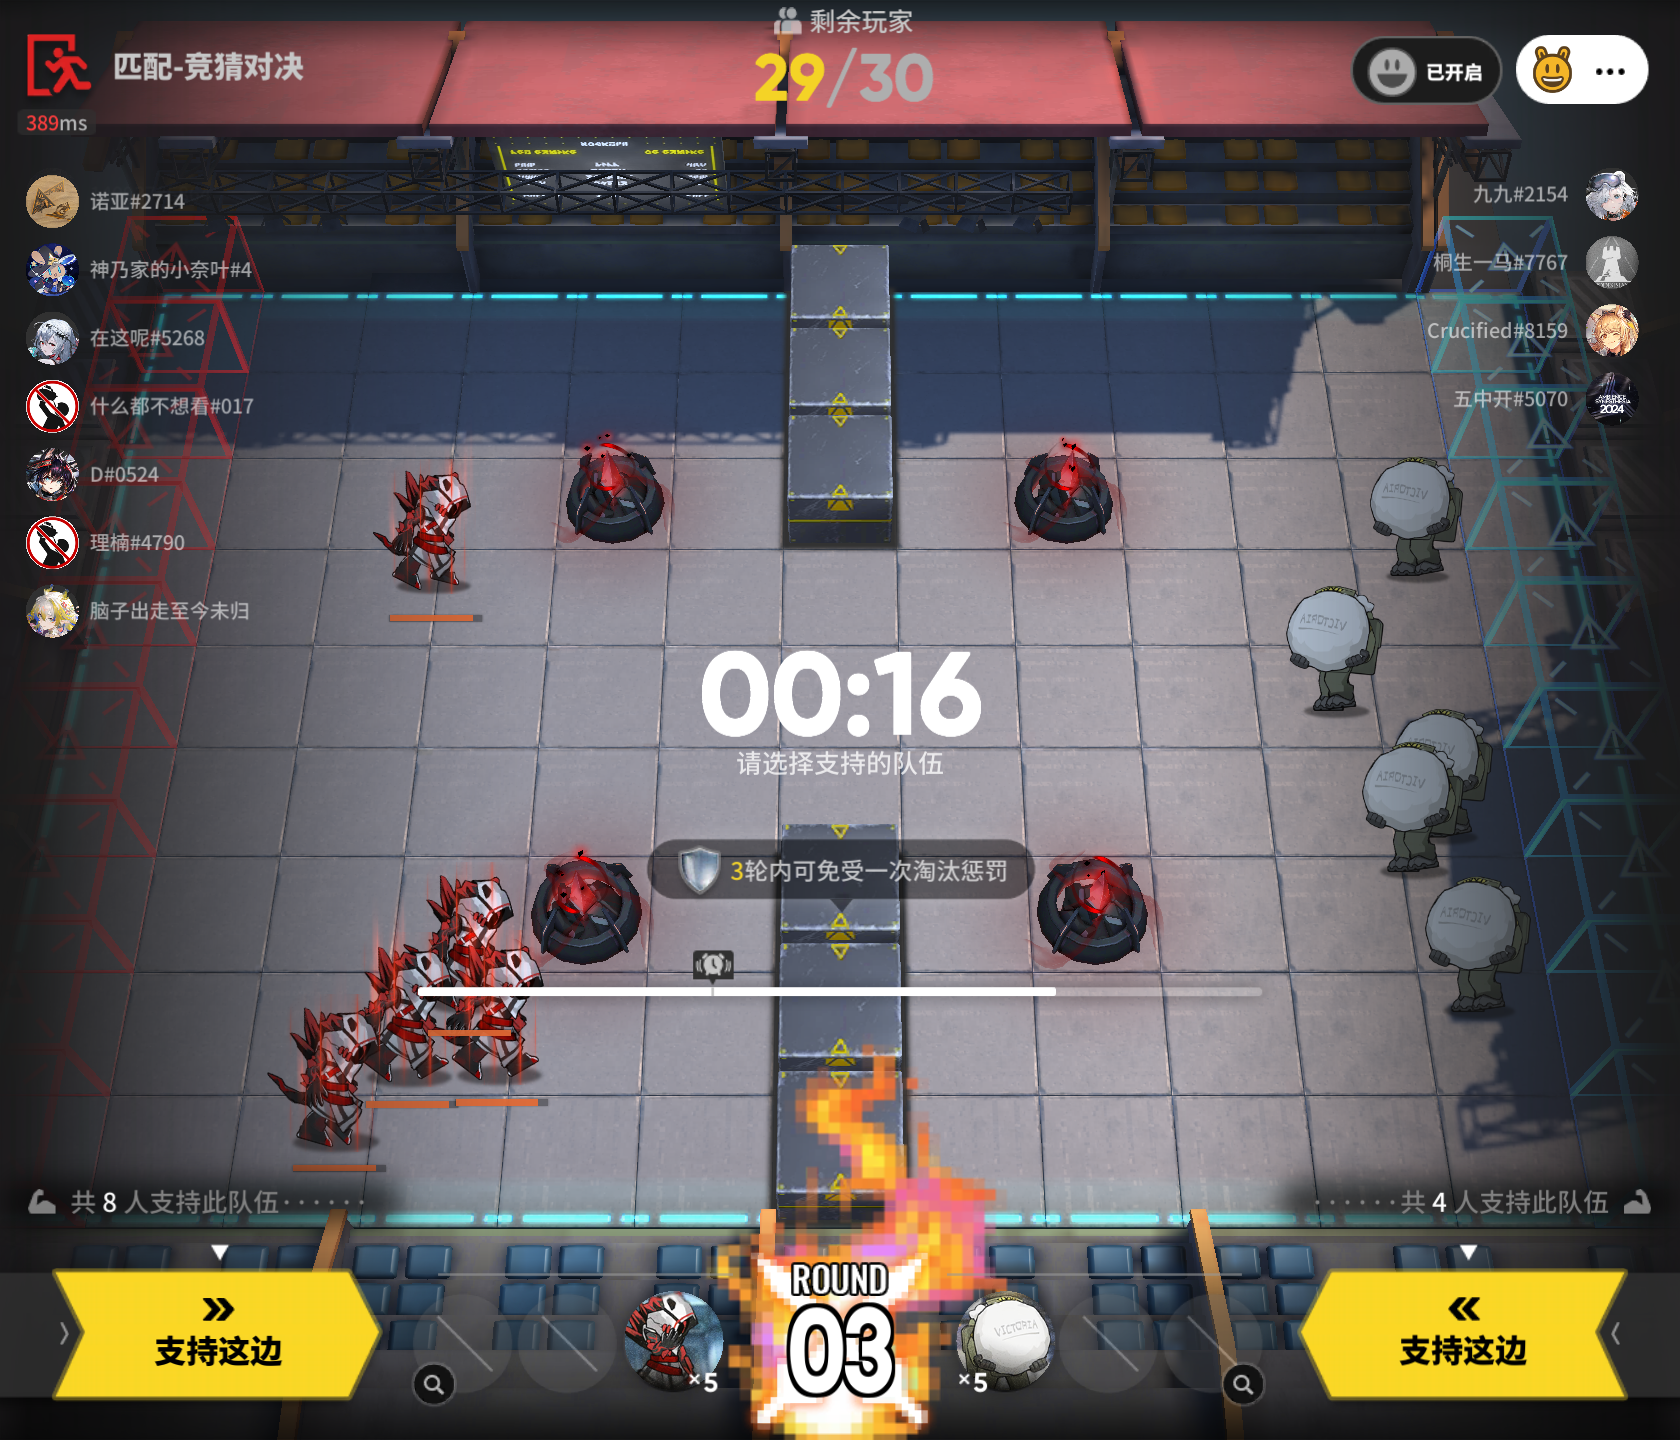巨大雪球投手: (1424, 867, 1529, 1007), (1391, 704, 1494, 837), (1284, 586, 1384, 713), (1364, 746, 1456, 881), (1371, 460, 1463, 579), (959, 1290, 1063, 1389)
源石祭坛: (530, 849, 641, 966), (1036, 854, 1149, 966), (564, 431, 666, 543), (1013, 436, 1113, 543)
苦难的具象: (366, 464, 477, 609), (273, 1003, 370, 1156), (366, 930, 451, 1087), (460, 947, 551, 1076), (619, 1283, 724, 1390), (427, 867, 514, 991)
阻挡物: (763, 1063, 910, 1230), (766, 934, 909, 1069), (774, 811, 907, 937), (777, 413, 896, 549), (787, 320, 900, 427), (786, 234, 894, 329)
